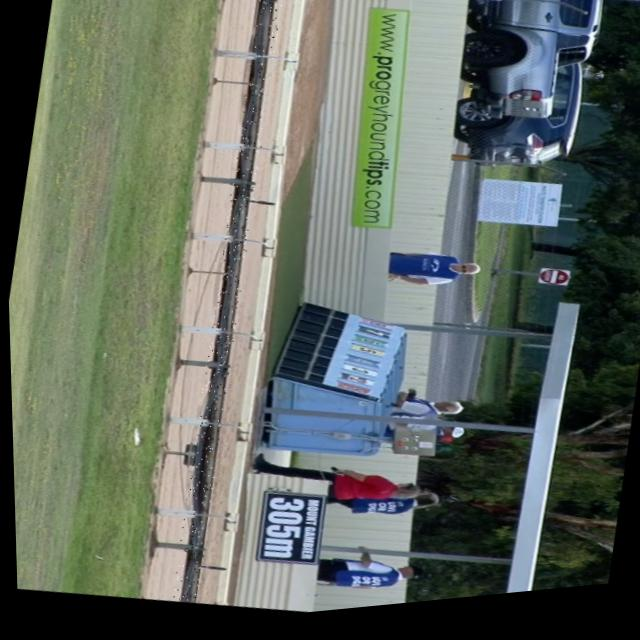rail: (173, 0, 270, 606)
